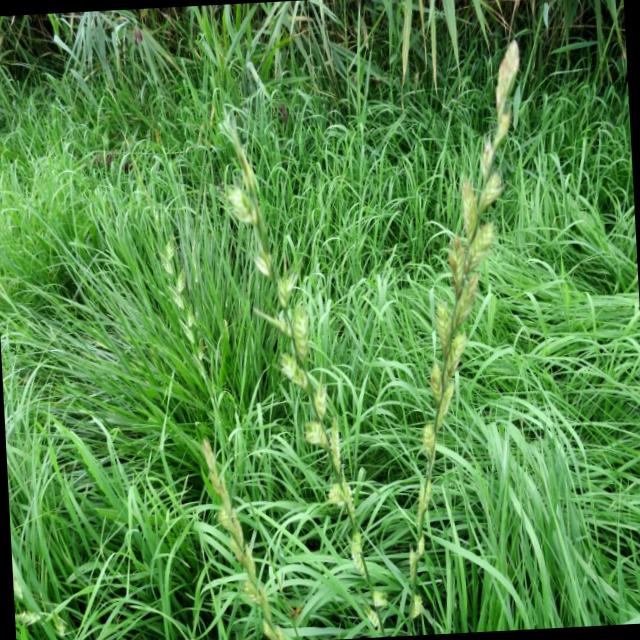Lolium: (367, 37, 554, 636), (217, 103, 388, 640), (206, 435, 274, 640), (158, 231, 224, 424)
